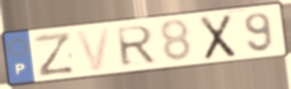8: (158, 18, 197, 65)
9: (243, 11, 274, 54)
R: (114, 24, 158, 69)
V: (73, 26, 113, 73)
X: (198, 12, 238, 62)
Z: (32, 31, 77, 79)
